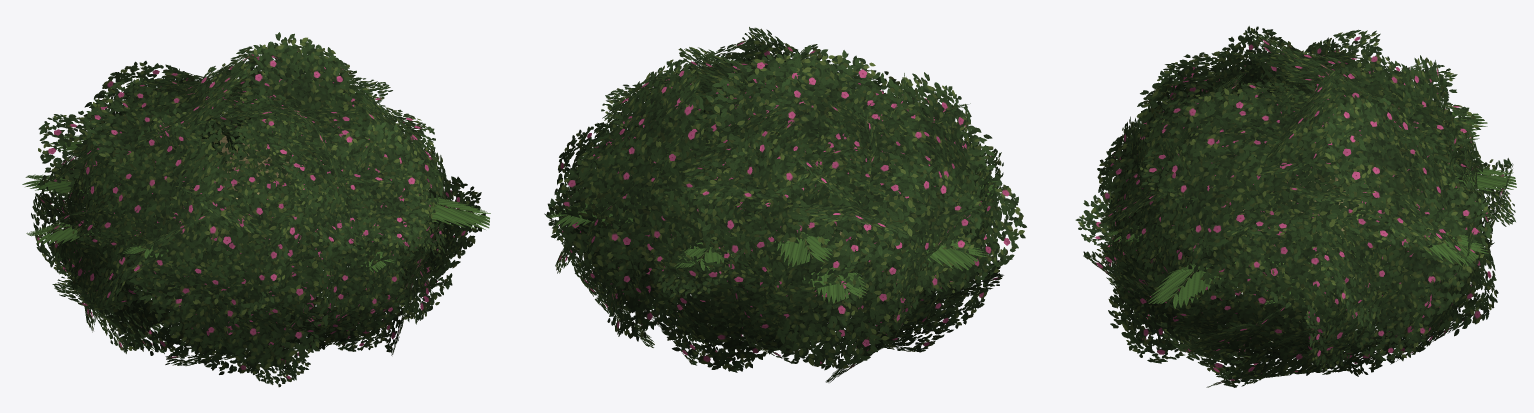
Rendered from plants.glb.
3 renders of one model, left to right at view 1: azimuth 30°, elevation 25°; view 2: azimuth 150°, elevation 25°; view 3: azimuth 270°, elevation 25°, orthographic. The views are drawn at different scales.
Visible parts, largest first — view 1: shrub_azalea, shrub_fern, grass_b; view 2: shrub_azalea, shrub_fern; view 3: shrub_azalea, shrub_fern.
Part boxes in pixels (x1,y1,x2,y2): shrub_azalea: (31,32,485,387); shrub_fern: (22,127,490,272); grass_b: (199,128,318,290); shrub_azalea: (544,27,1026,382); shrub_fern: (546,178,997,303); shrub_azalea: (1075,26,1515,387); shrub_fern: (1107,110,1516,308).
Bounding box in the file's own units: 1.58 × 1.04 × 1.39.
Materials: 2 (2 with a texture image).
